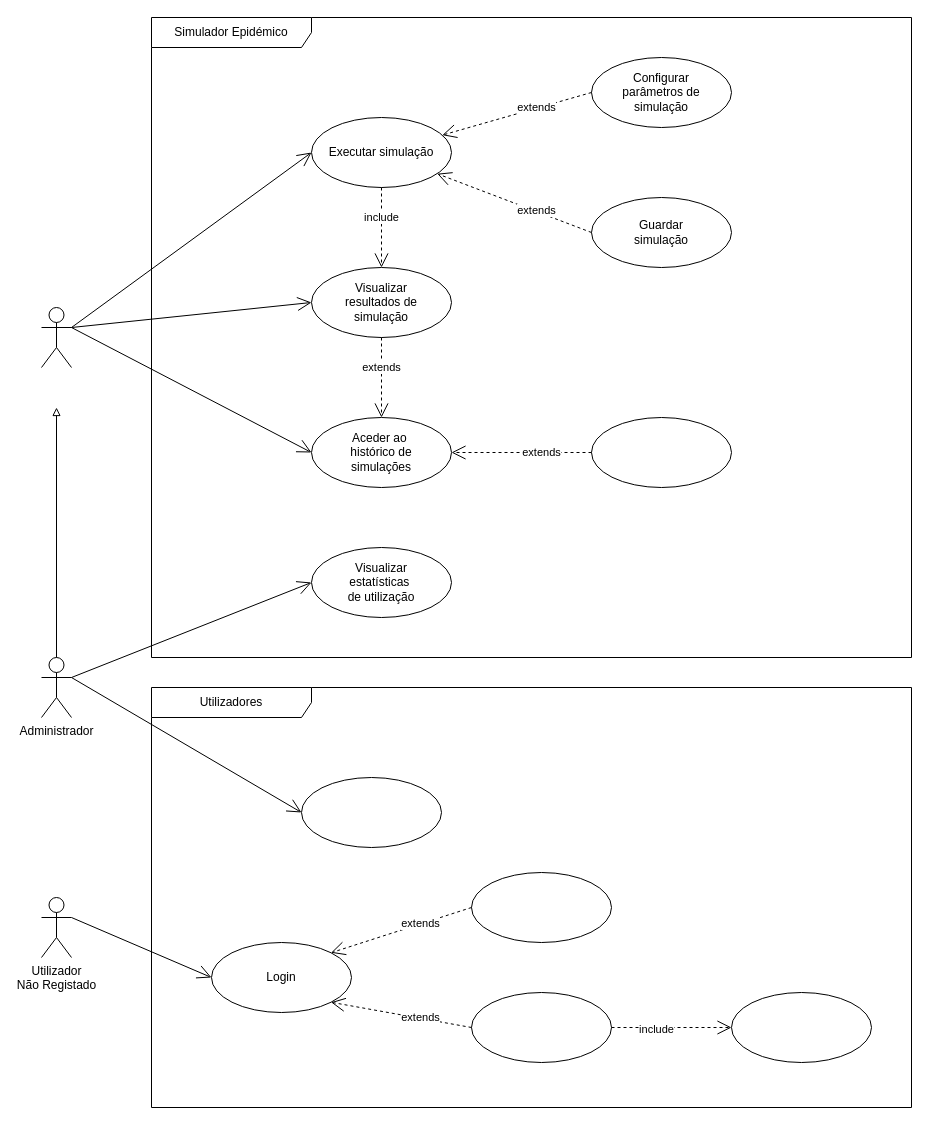
Image size: 929x1125. Some labels were removed from this diagram. Here are the shapes that lost their labels. From the top down, the centre of each, then its label:
the point at 56,337: Utilizador Registado
the point at 661,452: Consultar detalhes de simulação guardada
the point at 371,812: Gerir Utilizadores
the point at 541,907: Recuperar password
the point at 541,1027: Registar
the point at 801,1027: Enviar Email de Confirmação
